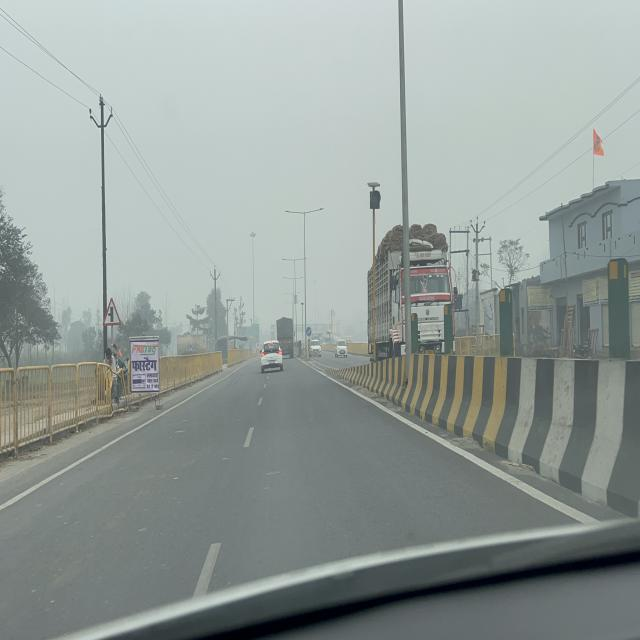KEEP_LEFT: (306, 326, 312, 336)
SIDE_ROAD_LEFT: (103, 297, 121, 326)
